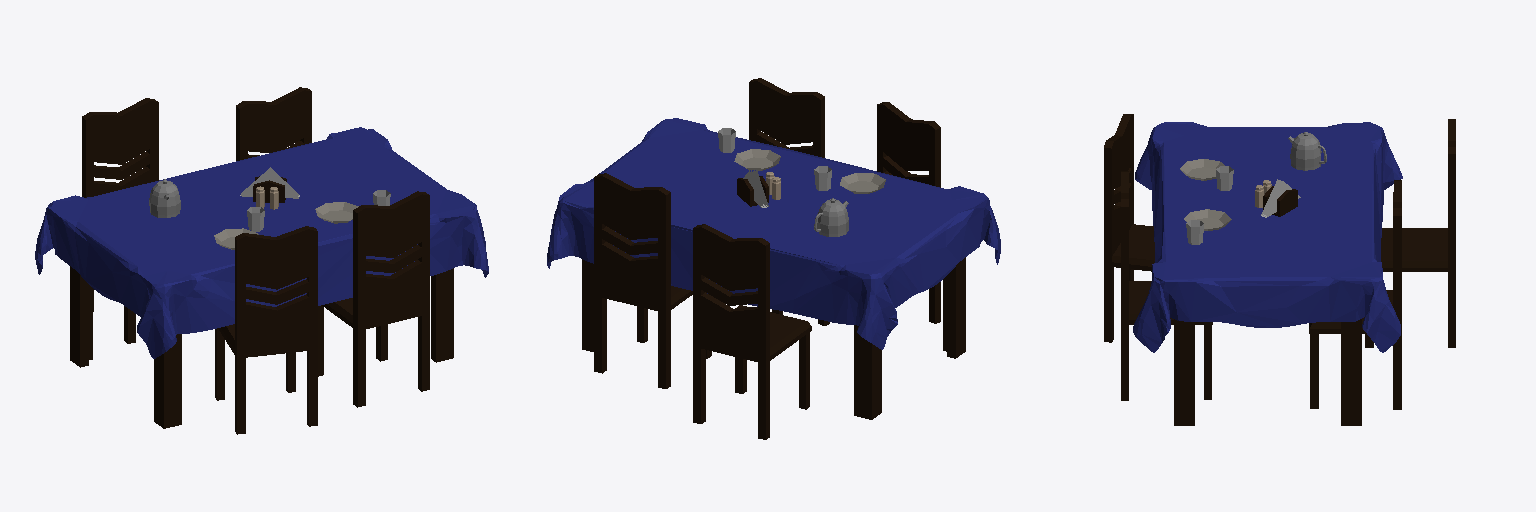
The model's file is mesa.obj.
3 renders of one model, left to right at view 1: azimuth 30°, elevation 25°; view 2: azimuth 150°, elevation 25°; view 3: azimuth 270°, elevation 25°, orthographic.
Parts seen in each view (by area): view 1: Mat_Plane.008, Chair_2_Plane.002, Chair_Plane.002, Chair.001_Plane.002, Table_Plane.001, Chair_2.001_Plane.002, Circle, Tissue_holder_Plane.009, Dish.000_Circle.009; view 2: Mat_Plane.008, Chair.001_Plane.002, Chair_2.001_Plane.002, Table_Plane.001, Chair_2_Plane.002, Chair_Plane.002, Circle, Tissue_holder_Plane.009, Dish.000_Circle.009, Dish.001_Circle.009; view 3: Mat_Plane.008, Chair_2_Plane.002, Chair.001_Plane.002, Table_Plane.001, Chair_Plane.002, Chair_2.001_Plane.002, Circle, Tissue_holder_Plane.009, Dish.001_Circle.009, Dish.000_Circle.009.
Part boxes in pixels (x1,y1,x2,y2): Mat_Plane.008: (35, 127, 488, 358); Chair_2_Plane.002: (215, 226, 317, 434); Chair_Plane.002: (318, 191, 429, 407); Chair.001_Plane.002: (82, 98, 158, 343); Table_Plane.001: (70, 266, 453, 428); Chair_2.001_Plane.002: (236, 87, 311, 160); Circle: (149, 179, 180, 217); Tissue_holder_Plane.009: (240, 167, 299, 202); Dish.000_Circle.009: (315, 202, 358, 223); Mat_Plane.008: (547, 118, 1000, 349); Chair.001_Plane.002: (693, 224, 811, 439); Chair_2.001_Plane.002: (594, 173, 711, 388); Table_Plane.001: (582, 257, 965, 419); Chair_2_Plane.002: (818, 102, 940, 325); Chair_Plane.002: (714, 78, 824, 314); Circle: (814, 198, 848, 236); Tissue_holder_Plane.009: (737, 169, 768, 207); Dish.000_Circle.009: (734, 149, 780, 170); Dish.001_Circle.009: (840, 173, 885, 193); Mat_Plane.008: (1133, 122, 1402, 352); Chair_2_Plane.002: (1104, 114, 1154, 342); Chair.001_Plane.002: (1365, 119, 1455, 347); Table_Plane.001: (1174, 319, 1361, 425); Chair_Plane.002: (1121, 171, 1212, 400); Chair_2.001_Plane.002: (1309, 180, 1401, 409); Circle: (1288, 132, 1326, 170); Tissue_holder_Plane.009: (1261, 179, 1300, 217); Dish.001_Circle.009: (1180, 159, 1224, 180); Dish.000_Circle.009: (1184, 209, 1231, 230).
Size of the model in its own units: 19.25 by 10.41 by 16.85.